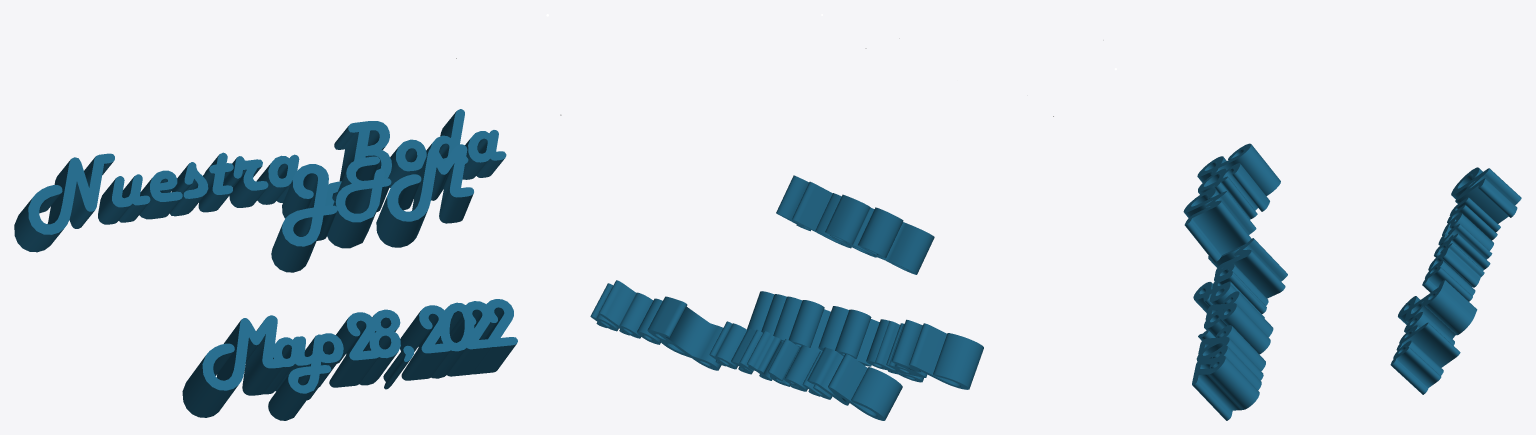
File: NombresG.glb
The picture shows the model from 3 angles, left to right: view 1: azimuth 30°, elevation 25°; view 2: azimuth 150°, elevation 25°; view 3: azimuth 270°, elevation 25°; orthographic projection. The views are drawn at different scales.
Parts seen in each view (by area): view 1: Text.001, text1, Text; view 2: text1, Text.001, Text; view 3: text1, Text.001, Text.
Part boxes in pixels (<box>): Text.001: <box>182,299,517,420</box>; text1: <box>14,109,506,252</box>; Text: <box>271,144,473,272</box>; text1: <box>590,280,902,420</box>; Text.001: <box>747,291,983,389</box>; Text: <box>776,175,934,274</box>; text1: <box>1390,167,1521,394</box>; Text.001: <box>1192,238,1287,420</box>; Text: <box>1183,143,1280,262</box>.
Size of the model in its own units: 4.65 by 4.13 by 5.32.
